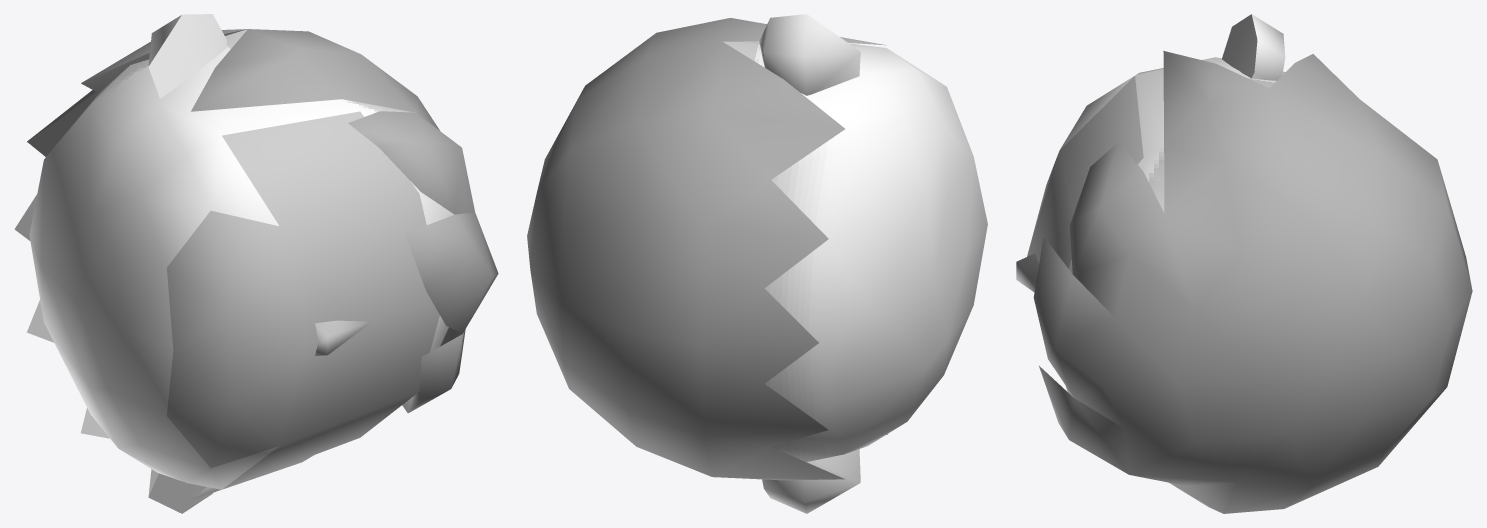
File: boy09a.dae
3 renders of one model, left to right at view 1: azimuth 30°, elevation 25°; view 2: azimuth 150°, elevation 25°; view 3: azimuth 270°, elevation 25°, orthographic. The views are drawn at different scales.
Parts seen in each view (by area): view 1: vsn_mesh_1_, vsn_mesh_0_, vsn_mesh_2_; view 2: vsn_mesh_1_; view 3: vsn_mesh_1_, vsn_mesh_0_.
Part boxes in pixels (left/top/right/bottom): vsn_mesh_1_: left=14, top=14, right=498, bottom=513; vsn_mesh_0_: left=222, top=111, right=439, bottom=489; vsn_mesh_2_: left=166, top=210, right=306, bottom=467; vsn_mesh_1_: left=527, top=14, right=987, bottom=513; vsn_mesh_1_: left=1033, top=14, right=1472, bottom=513; vsn_mesh_0_: left=1016, top=76, right=1143, bottom=392.
Bounding box in the file's own units: 20.86 × 26.71 × 22.57.
